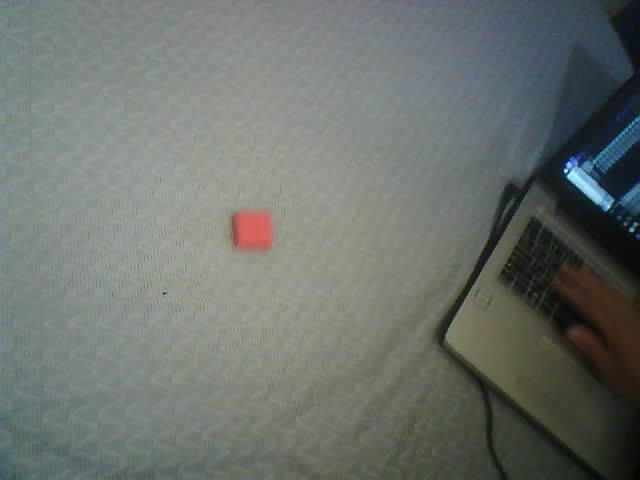lego: (230, 209, 273, 251)
